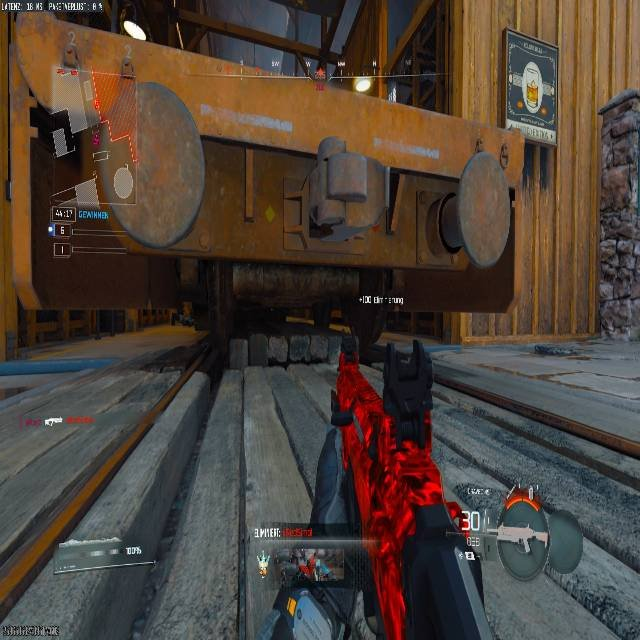head: (291, 547, 305, 564)
